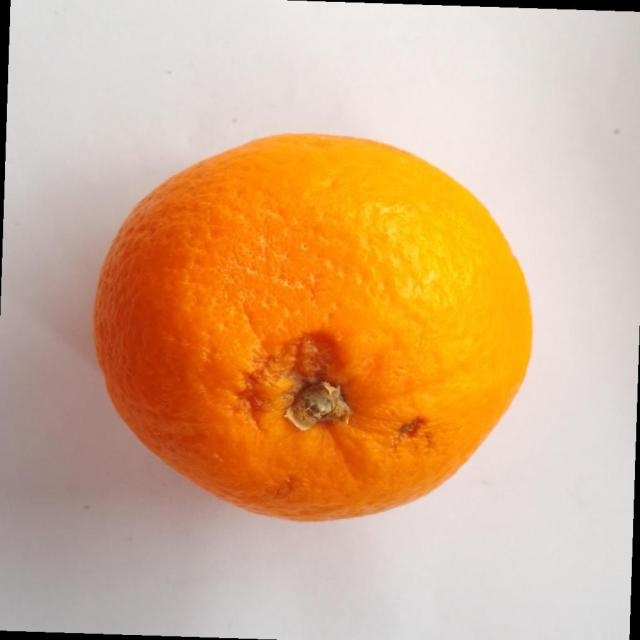agrume: (92, 130, 534, 522)
